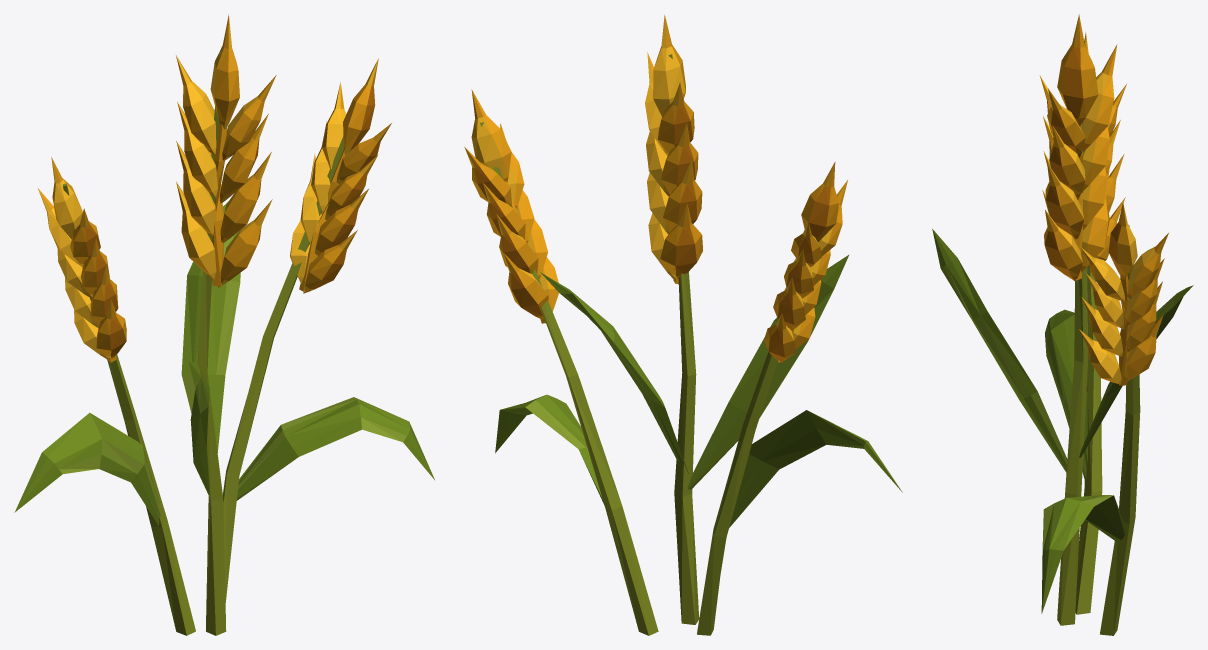
Rendered from Wheat Crop.fbx.
The picture shows the model from 3 angles, left to right: view 1: azimuth 30°, elevation 25°; view 2: azimuth 150°, elevation 25°; view 3: azimuth 270°, elevation 25°; orthographic projection.
Visible parts, largest first — view 1: Wheat Crop; view 2: Wheat Crop; view 3: Wheat Crop.
Boxes of the visible parts, bbox=[...] form: Wheat Crop: bbox=[14, 14, 434, 635]; Wheat Crop: bbox=[464, 15, 902, 635]; Wheat Crop: bbox=[932, 14, 1193, 635].
Bounding box in the file's own units: 80 × 112 × 43.
